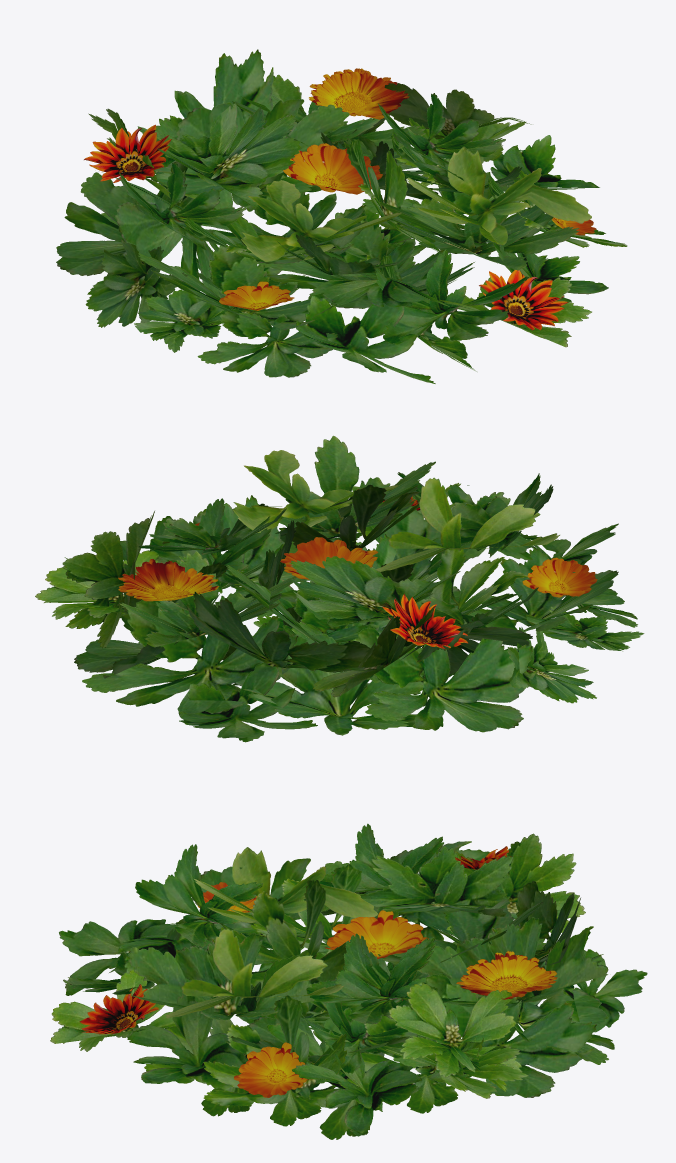
The model's file is Sponza5.gltf.
3 views of the same model, one above another, from view 1: azimuth 30°, elevation 25°; view 2: azimuth 150°, elevation 25°; view 3: azimuth 270°, elevation 25° (orthographic). The views are drawn at different scales.
Size of the model in its own units: 0.4442 by 0.1856 by 0.4575.
1 material, 1 textured.
